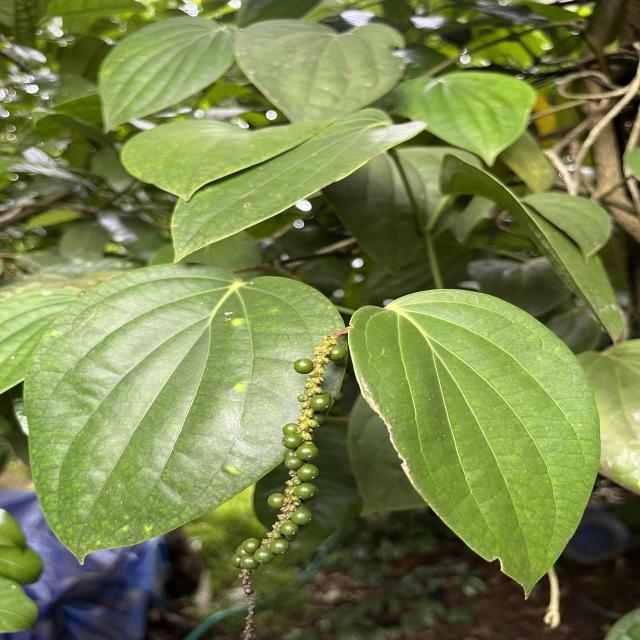Piper nigrum: (21, 260, 348, 570), (346, 286, 604, 603)
